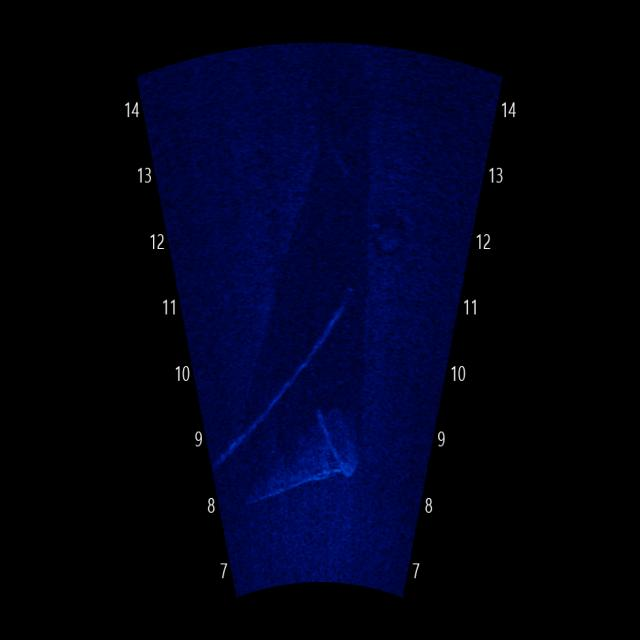circle: (234, 137, 286, 210), (372, 216, 415, 266)
triangle: (232, 395, 372, 509)
